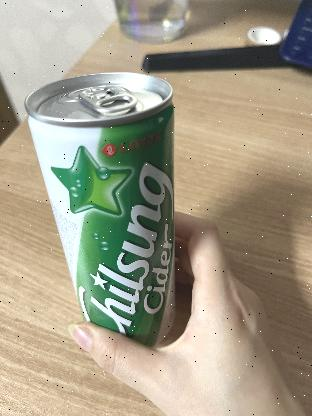Can: (26, 71, 178, 351)
